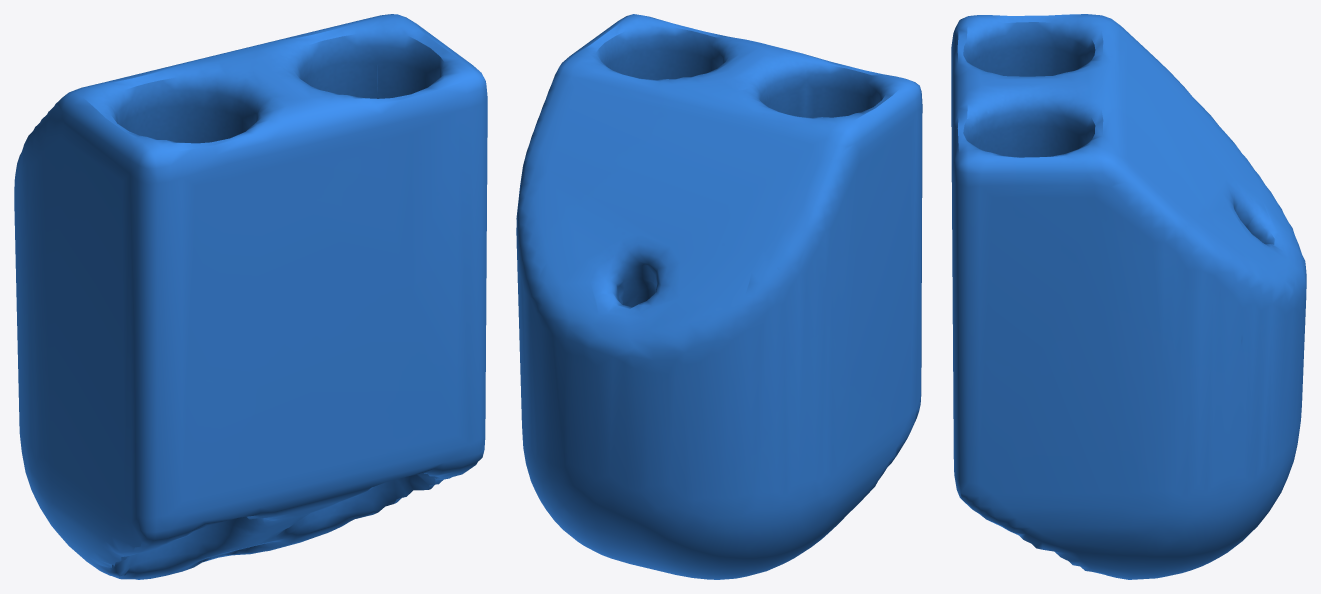
Rendered from left_finger4_upper.glb.
3 views of the same model, side by side, from view 1: azimuth 30°, elevation 25°; view 2: azimuth 150°, elevation 25°; view 3: azimuth 270°, elevation 25° (orthographic). The views are drawn at different scales.
Visible parts, largest first — view 1: left_finger4_upper; view 2: left_finger4_upper; view 3: left_finger4_upper.
Part boxes in pixels (bbox=[...]): left_finger4_upper: bbox=[14, 14, 487, 579]; left_finger4_upper: bbox=[516, 14, 922, 579]; left_finger4_upper: bbox=[951, 14, 1306, 579].
Size of the model in its own units: 0.0102 by 0.0146 by 0.0101.
Materials: 1 (1 with a texture image).
